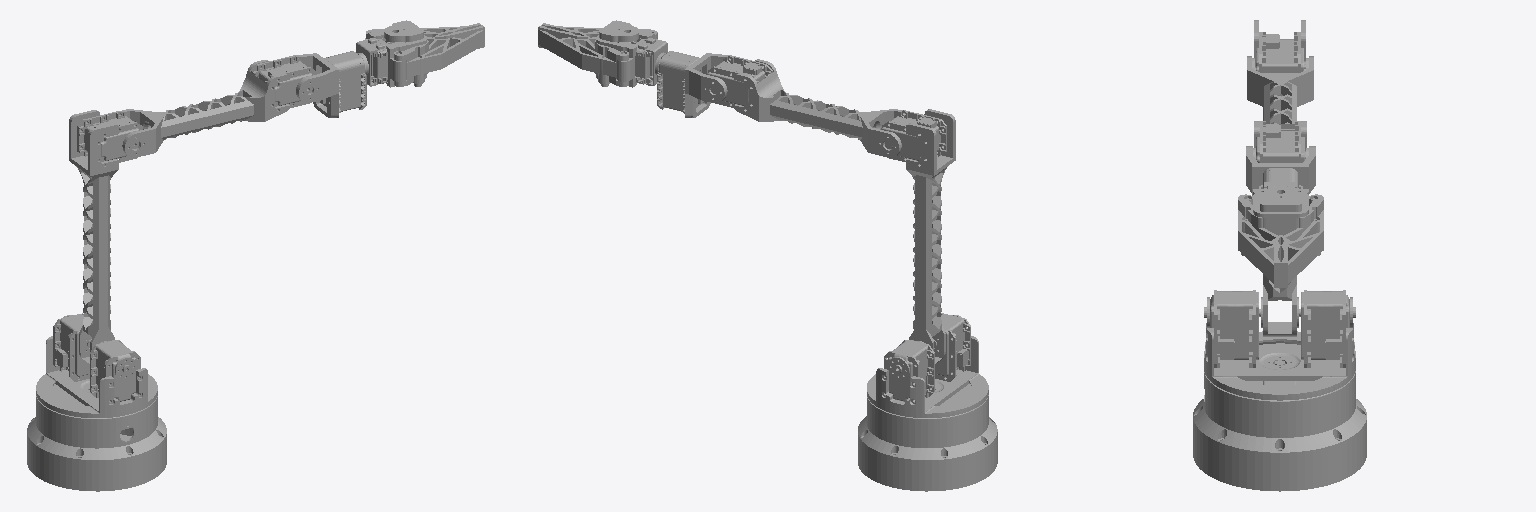
The robot description file, URDF, robot "snacbot":
<?xml version="1.0" ?>
<!-- =================================================================================== -->
<!-- |    This document was autogenerated by xacro from snacbot.xacro                  | -->
<!-- |    EDITING THIS FILE BY HAND IS NOT RECOMMENDED                                 | -->
<!-- =================================================================================== -->
<robot name="snacbot">
  <material name="silver">
    <color rgba="0.700 0.700 0.700 1.000"/>
  </material>
  <transmission name="waist_joint_tran">
    <type>transmission_interface/SimpleTransmission</type>
    <joint name="waist_joint">
      <hardwareInterface>hardware_interface/EffortJointInterface</hardwareInterface>
    </joint>
    <actuator name="waist_joint_actr">
      <hardwareInterface>hardware_interface/EffortJointInterface</hardwareInterface>
      <mechanicalReduction>1</mechanicalReduction>
    </actuator>
  </transmission>
  <transmission name="shoulder_joint_tran">
    <type>transmission_interface/SimpleTransmission</type>
    <joint name="shoulder_joint">
      <hardwareInterface>hardware_interface/EffortJointInterface</hardwareInterface>
    </joint>
    <actuator name="shoulder_joint_actr">
      <hardwareInterface>hardware_interface/EffortJointInterface</hardwareInterface>
      <mechanicalReduction>1</mechanicalReduction>
    </actuator>
  </transmission>
  <transmission name="elbow_joint_tran">
    <type>transmission_interface/SimpleTransmission</type>
    <joint name="elbow_joint">
      <hardwareInterface>hardware_interface/EffortJointInterface</hardwareInterface>
    </joint>
    <actuator name="elbow_joint_actr">
      <hardwareInterface>hardware_interface/EffortJointInterface</hardwareInterface>
      <mechanicalReduction>1</mechanicalReduction>
    </actuator>
  </transmission>
  <transmission name="wrist_joint_tran">
    <type>transmission_interface/SimpleTransmission</type>
    <joint name="wrist_joint">
      <hardwareInterface>hardware_interface/EffortJointInterface</hardwareInterface>
    </joint>
    <actuator name="wrist_joint_actr">
      <hardwareInterface>hardware_interface/EffortJointInterface</hardwareInterface>
      <mechanicalReduction>1</mechanicalReduction>
    </actuator>
  </transmission>
  <transmission name="palm_joint_tran">
    <type>transmission_interface/SimpleTransmission</type>
    <joint name="palm_joint">
      <hardwareInterface>hardware_interface/EffortJointInterface</hardwareInterface>
    </joint>
    <actuator name="palm_joint_actr">
      <hardwareInterface>hardware_interface/EffortJointInterface</hardwareInterface>
      <mechanicalReduction>1</mechanicalReduction>
    </actuator>
  </transmission>
  <transmission name="gripper_joint_tran">
    <type>transmission_interface/SimpleTransmission</type>
    <joint name="gripper_joint">
      <hardwareInterface>hardware_interface/EffortJointInterface</hardwareInterface>
    </joint>
    <actuator name="gripper_joint_actr">
      <hardwareInterface>hardware_interface/EffortJointInterface</hardwareInterface>
      <mechanicalReduction>1</mechanicalReduction>
    </actuator>
  </transmission>
  <transmission name="finger1_joint_tran">
    <type>transmission_interface/SimpleTransmission</type>
    <joint name="finger1_joint">
      <hardwareInterface>hardware_interface/EffortJointInterface</hardwareInterface>
    </joint>
    <actuator name="finger1_joint_actr">
      <hardwareInterface>hardware_interface/EffortJointInterface</hardwareInterface>
      <mechanicalReduction>1</mechanicalReduction>
    </actuator>
  </transmission>
  <transmission name="finger2_joint_tran">
    <type>transmission_interface/SimpleTransmission</type>
    <joint name="finger2_joint">
      <hardwareInterface>hardware_interface/EffortJointInterface</hardwareInterface>
    </joint>
    <actuator name="finger2_joint_actr">
      <hardwareInterface>hardware_interface/EffortJointInterface</hardwareInterface>
      <mechanicalReduction>1</mechanicalReduction>
    </actuator>
  </transmission>
  <gazebo>
    <plugin filename="libgazebo_ros_control.so" name="control"/>
  </gazebo>
  <gazebo reference="base_link">
    <material>Gazebo/Silver</material>
    <mu1>0.2</mu1>
    <mu2>0.2</mu2>
    <selfCollide>true</selfCollide>
    <gravity>true</gravity>
  </gazebo>
  <gazebo reference="shoulder_link">
    <material>Gazebo/Silver</material>
    <mu1>0.2</mu1>
    <mu2>0.2</mu2>
    <selfCollide>true</selfCollide>
  </gazebo>
  <gazebo reference="arm_link">
    <material>Gazebo/Silver</material>
    <mu1>0.2</mu1>
    <mu2>0.2</mu2>
    <selfCollide>true</selfCollide>
  </gazebo>
  <gazebo reference="forearm_link">
    <material>Gazebo/Silver</material>
    <mu1>0.2</mu1>
    <mu2>0.2</mu2>
    <selfCollide>true</selfCollide>
  </gazebo>
  <gazebo reference="hand_link">
    <material>Gazebo/Silver</material>
    <mu1>0.2</mu1>
    <mu2>0.2</mu2>
    <selfCollide>true</selfCollide>
  </gazebo>
  <gazebo reference="palm_link">
    <material>Gazebo/Silver</material>
    <mu1>0.2</mu1>
    <mu2>0.2</mu2>
    <selfCollide>true</selfCollide>
  </gazebo>
  <gazebo reference="gripper_driving_link">
    <material>Gazebo/Silver</material>
    <mu1>0.2</mu1>
    <mu2>0.2</mu2>
    <selfCollide>true</selfCollide>
  </gazebo>
  <gazebo reference="finger1_link">
    <material>Gazebo/Silver</material>
    <mu1>0.2</mu1>
    <mu2>0.2</mu2>
    <selfCollide>true</selfCollide>
  </gazebo>
  <gazebo reference="finger2_link">
    <material>Gazebo/Silver</material>
    <mu1>0.2</mu1>
    <mu2>0.2</mu2>
    <selfCollide>true</selfCollide>
  </gazebo>
  <link name="world"/>
  <link name="base_link">
    <inertial>
      <origin rpy="0 0 0" xyz="0.0023657954446381375 -6.614240985321828e-05 0.03556496392903804"/>
      <mass value="1.5030270945970066"/>
      <inertia ixx="0.002425" ixy="1e-06" ixz="-4.8e-05" iyy="0.002489" iyz="-1e-05" izz="0.003322"/>
    </inertial>
    <visual>
      <origin rpy="0 0 0" xyz="0 0 0"/>
      <geometry>
        <mesh filename="package://snacbot_description/meshes/base_link.stl" scale="0.001 0.001 0.001"/>
      </geometry>
      <material name="silver"/>
    </visual>
    <collision>
      <origin rpy="0 0 0" xyz="0 0 0"/>
      <geometry>
        <mesh filename="package://snacbot_description/meshes/base_link.stl" scale="0.001 0.001 0.001"/>
      </geometry>
    </collision>
  </link>
  <link name="shoulder_link">
    <inertial>
      <origin rpy="0 0 0" xyz="-3.5710799003101265e-16 -9.70255671027657e-16 0.021007556766470648"/>
      <mass value="0.9933845675779478"/>
      <inertia ixx="0.001482" ixy="0.0" ixz="-0.0" iyy="0.000491" iyz="-0.0" izz="0.001397"/>
    </inertial>
    <visual>
      <origin rpy="0 0 0" xyz="0.0 -0.0 -0.073675"/>
      <geometry>
        <mesh filename="package://snacbot_description/meshes/shoulder_link_1.stl" scale="0.001 0.001 0.001"/>
      </geometry>
      <material name="silver"/>
    </visual>
    <collision>
      <origin rpy="0 0 0" xyz="0.0 -0.0 -0.073675"/>
      <geometry>
        <mesh filename="package://snacbot_description/meshes/shoulder_link_1.stl" scale="0.001 0.001 0.001"/>
      </geometry>
    </collision>
  </link>
  <link name="arm_link">
    <inertial>
      <origin rpy="0 0 0" xyz="0.006643024417772186 0.009009733316364827 0.15284041528327338"/>
      <mass value="0.7694455801037552"/>
      <inertia ixx="0.003903" ixy="-1e-06" ixz="-0.000266" iyy="0.003957" iyz="-0.0" izz="0.00022"/>
    </inertial>
    <visual>
      <origin rpy="0 0 0" xyz="-0.0 0.009 -0.113675"/>
      <geometry>
        <mesh filename="package://snacbot_description/meshes/arm_link_1.stl" scale="0.001 0.001 0.001"/>
      </geometry>
      <material name="silver"/>
    </visual>
    <collision>
      <origin rpy="0 0 0" xyz="-0.0 0.009 -0.113675"/>
      <geometry>
        <mesh filename="package://snacbot_description/meshes/arm_link_1.stl" scale="0.001 0.001 0.001"/>
      </geometry>
    </collision>
  </link>


<link name="arm_shadow_link">
    <origin xyz="-0.0 0.009 -0.113675" rpy="0 0 0"/>
</link>

  <link name="forearm_link">
    <inertial>
      <origin rpy="0 0 0" xyz="0.12530362498320322 0.02051079804018362 0.007019037615682622"/>
      <mass value="0.6930776096733422"/>
      <inertia ixx="0.000161" ixy="-2e-06" ixz="-0.000204" iyy="0.002362" iyz="-0.0" izz="0.00239"/>
    </inertial>
    <visual>
      <origin rpy="0 0 0" xyz="-0.027 0.020075 -0.317875"/>
      <geometry>
        <mesh filename="package://snacbot_description/meshes/forearm_link_1.stl" scale="0.001 0.001 0.001"/>
      </geometry>
      <material name="silver"/>
    </visual>
    <collision>
      <origin rpy="0 0 0" xyz="-0.027 0.020075 -0.317875"/>
      <geometry>
        <mesh filename="package://snacbot_description/meshes/forearm_link_1.stl" scale="0.001 0.001 0.001"/>
      </geometry>
    </collision>
  </link>
  <link name="hand_link">
    <inertial>
      <origin rpy="0 0 0" xyz="0.04152167158553119 0.02011849033469139 -0.010784557589962995"/>
      <mass value="0.4498637120159831"/>
      <inertia ixx="0.000148" ixy="1e-06" ixz="2.7e-05" iyy="0.000224" iyz="-0.0" izz="0.000198"/>
    </inertial>
    <visual>
      <origin rpy="0 0 0" xyz="-0.2078 0.01965 -0.330375"/>
      <geometry>
        <mesh filename="package://snacbot_description/meshes/hand_link_1.stl" scale="0.001 0.001 0.001"/>
      </geometry>
      <material name="silver"/>
    </visual>
    <collision>
      <origin rpy="0 0 0" xyz="-0.2078 0.01965 -0.330375"/>
      <geometry>
        <mesh filename="package://snacbot_description/meshes/hand_link_1.stl" scale="0.001 0.001 0.001"/>
      </geometry>
    </collision>
  </link>
  <link name="palm_link">
    <inertial>
      <origin rpy="0 0 0" xyz="0.03514107719512616 0.00028468032824946964 0.0011739025280478876"/>
      <mass value="0.5485700850055245"/>
      <inertia ixx="0.00015" ixy="-0.0" ixz="-1.2e-05" iyy="0.000191" iyz="-0.0" izz="0.0002"/>
    </inertial>
    <visual>
      <origin rpy="0 0 0" xyz="-0.27311 -0.00045 -0.330325"/>
      <geometry>
        <mesh filename="package://snacbot_description/meshes/palm_link_1.stl" scale="0.001 0.001 0.001"/>
      </geometry>
      <material name="silver"/>
    </visual>
    <collision>
      <origin rpy="0 0 0" xyz="-0.27311 -0.00045 -0.330325"/>
      <geometry>
        <mesh filename="package://snacbot_description/meshes/palm_link_1.stl" scale="0.001 0.001 0.001"/>
      </geometry>
    </collision>
  </link>
  <link name="gripper_driving_link">
    <inertial>
      <origin rpy="0 0 0" xyz="-4.267483755260315e-09 7.6050195998832865e-06 0.002017482694919248"/>
      <mass value="0.009329279902749366"/>
      <inertia ixx="0.0" ixy="-0.0" ixz="-0.0" iyy="0.0" iyz="-0.0" izz="1e-06"/>
    </inertial>
    <visual>
      <origin rpy="0 0 0" xyz="-0.32015 -0.000756 -0.309525"/>
      <geometry>
        <mesh filename="package://snacbot_description/meshes/gripper_driving_link_1.stl" scale="0.001 0.001 0.001"/>
      </geometry>
      <material name="silver"/>
    </visual>
    <collision>
      <origin rpy="0 0 0" xyz="-0.32015 -0.000756 -0.309525"/>
      <geometry>
        <mesh filename="package://snacbot_description/meshes/gripper_driving_link_1.stl" scale="0.001 0.001 0.001"/>
      </geometry>
    </collision>
  </link>
  <link name="finger1_link">
    <inertial>
      <origin rpy="0 0 0" xyz="0.04341596099355033 0.00717258179909807 0.009580165880901437"/>
      <mass value="0.14441482713674805"/>
      <inertia ixx="2e-05" ixy="-2.9e-05" ixz="-2e-06" iyy="0.000111" iyz="-1e-06" izz="0.000116"/>
    </inertial>
    <visual>
      <origin rpy="0 0 0" xyz="-0.30115 0.023244 -0.320325"/>
      <geometry>
        <mesh filename="package://snacbot_description/meshes/finger1_link_1.stl" scale="0.001 0.001 0.001"/>
      </geometry>
      <material name="silver"/>
    </visual>
    <collision>
      <origin rpy="0 0 0" xyz="-0.30115 0.023244 -0.320325"/>
      <geometry>
        <mesh filename="package://snacbot_description/meshes/finger1_link_1.stl" scale="0.001 0.001 0.001"/>
      </geometry>
    </collision>
  </link>
  <link name="finger2_link">
    <inertial>
      <origin rpy="0 0 0" xyz="0.043415960993547276 -0.007172063661821274 0.009580165880900049"/>
      <mass value="0.14441482713674192"/>
      <inertia ixx="2e-05" ixy="2.9e-05" ixz="-2e-06" iyy="0.000111" iyz="1e-06" izz="0.000116"/>
    </inertial>
    <visual>
      <origin rpy="0 0 0" xyz="-0.30115 -0.024756 -0.320325"/>
      <geometry>
        <mesh filename="package://snacbot_description/meshes/finger2_link_1.stl" scale="0.001 0.001 0.001"/>
      </geometry>
      <material name="silver"/>
    </visual>
    <collision>
      <origin rpy="0 0 0" xyz="-0.30115 -0.024756 -0.320325"/>
      <geometry>
        <mesh filename="package://snacbot_description/meshes/finger2_link_1.stl" scale="0.001 0.001 0.001"/>
      </geometry>
    </collision>
  </link>
  <joint name="base_joint" type="fixed">
    <parent link="world"/>
    <child link="base_link"/>
  </joint>
  <joint name="waist_joint" type="revolute">
    <origin rpy="0 0 0" xyz="0.0 0.0 0.073675"/>
    <parent link="base_link"/>
    <child link="shoulder_link"/>
    <axis xyz="0.0 0.0 1.0"/>
    <limit lower="-3.14" upper="3.14" effort="300" velocity="4.01" />
  </joint>
  <joint name="shoulder_joint" type="revolute">
    <origin rpy="0 0 0" xyz="0.0 -0.009 0.04"/>
    <parent link="shoulder_link"/>
    <child link="arm_link"/>
    <axis xyz="0.0 1.0 0.0"/>
    <limit lower="-1.85" upper="1.85" effort="300" velocity="4.01" />
  </joint>
  <joint name="elbow_joint" type="revolute">
    <origin rpy="0 0 0" xyz="0.027 -0.011075 0.2042"/>
    <parent link="arm_link"/>
    <child link="forearm_link"/>
    <axis xyz="0.0 -1.0 0.0"/>
    <limit lower="-1.5" upper="1.6" effort="300" velocity="4.01" />
  </joint>
  <joint name="wrist_joint" type="revolute">
    <origin rpy="0 0 0" xyz="0.1808 0.000425 0.0125"/>
    <parent link="forearm_link"/>
    <child link="hand_link"/>
    <axis xyz="-0.0 -1.0 0.0"/>
    <limit lower="-1.6" upper="1.85" effort="300" velocity="4.01" />
  </joint>
  <joint name="palm_joint" type="revolute">
    <origin rpy="0 0 0" xyz="0.06531 0.0201 -5e-05"/>
    <parent link="hand_link"/>
    <child link="palm_link"/>
    <axis xyz="1.0 0.0 0.0"/>
    <limit lower="-1.6" upper="1.6" effort="300" velocity="4.01" />
  </joint>
  <joint name="gripper_joint" type="continuous">
    <origin rpy="0 0 0" xyz="0.04704 0.000306 -0.0208"/>
    <parent link="palm_link"/>
    <child link="gripper_driving_link"/>
    <axis xyz="-0.0 -0.0 1.0"/>
  </joint>
  <joint name="finger1_joint" type="continuous">
    <origin rpy="0 0 0" xyz="0.02804 -0.023694 -0.01"/>
    <parent link="palm_link"/>
    <child link="finger1_link"/>
    <axis xyz="0.0 0.0 -1.0"/>
  </joint>
  <joint name="finger2_joint" type="continuous">
    <origin rpy="0 0 0" xyz="0.02804 0.024306 -0.01"/>
    <parent link="palm_link"/>
    <child link="finger2_link"/>
    <axis xyz="0.0 0.0 -1.0"/>
  </joint>

<joint name="shoulder_shadow_joint" type="continuous">
  <origin xyz="0.0 -0.009 0.04" rpy="0 0 0"/>
  <parent link="shoulder_link"/>
  <child link="arm_shadow_link"/>
  <axis xyz="0.0 1.0 0.0"/>
  <mimic joint="shoulder_joint" multiplier="-1" offset="0" />
</joint>

</robot>

--- Facts derived from the render (not from the file) ---
The picture shows the robot from 3 angles, left to right: view 1: azimuth 30°, elevation 25°; view 2: azimuth 150°, elevation 25°; view 3: azimuth 270°, elevation 25°; orthographic projection.
Model snacbot with 11 links and 10 joints (5 revolute, 4 continuous, 1 fixed), rooted at world, posed all joints at 0.
Visible links, largest first — view 1: base_link, arm_link, shoulder_link, forearm_link, hand_link, palm_link, finger1_link; view 2: base_link, arm_link, shoulder_link, forearm_link, hand_link, palm_link, finger2_link; view 3: base_link, shoulder_link, forearm_link, arm_link, finger2_link, finger1_link, palm_link, hand_link.
Boxes of the visible links, <box> form: base_link: <box>27,384,166,491</box>; arm_link: <box>69,110,142,364</box>; shoulder_link: <box>36,313,157,417</box>; forearm_link: <box>119,55,315,157</box>; hand_link: <box>276,51,368,117</box>; palm_link: <box>356,20,426,87</box>; finger1_link: <box>394,25,484,86</box>; base_link: <box>858,384,997,491</box>; arm_link: <box>881,109,955,363</box>; shoulder_link: <box>867,313,988,417</box>; forearm_link: <box>707,55,921,157</box>; hand_link: <box>655,51,730,117</box>; palm_link: <box>596,20,667,87</box>; finger2_link: <box>538,25,628,86</box>; base_link: <box>1193,343,1366,491</box>; shoulder_link: <box>1204,290,1355,400</box>; forearm_link: <box>1247,56,1313,162</box>; arm_link: <box>1252,20,1308,336</box>; finger2_link: <box>1281,194,1323,287</box>; finger1_link: <box>1238,194,1280,287</box>; palm_link: <box>1253,182,1308,235</box>; hand_link: <box>1246,146,1315,195</box>.
Bounding box of the posed robot: 0.4641 × 0.126 × 0.3553 m (x, y, z).
Meshes: 9 distinct files referenced, 9 mesh visuals loaded (9 binary STL).